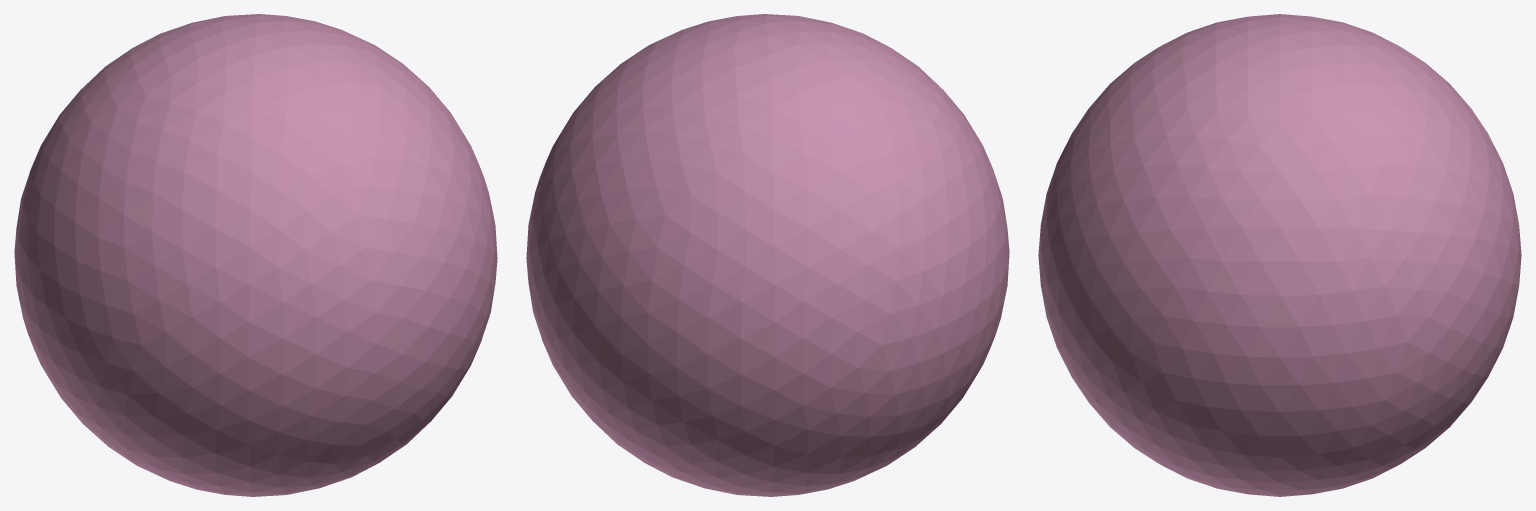
3 renders of one model, left to right at view 1: azimuth 30°, elevation 25°; view 2: azimuth 150°, elevation 25°; view 3: azimuth 270°, elevation 25°, orthographic.
Visible parts, largest first — view 1: world; view 2: world; view 3: world.
Part boxes in pixels (x1,y1,x2,y2): world: (14, 14, 497, 496); world: (526, 14, 1009, 496); world: (1038, 14, 1521, 496).
Size of the model in its own units: 3 by 3 by 3.
